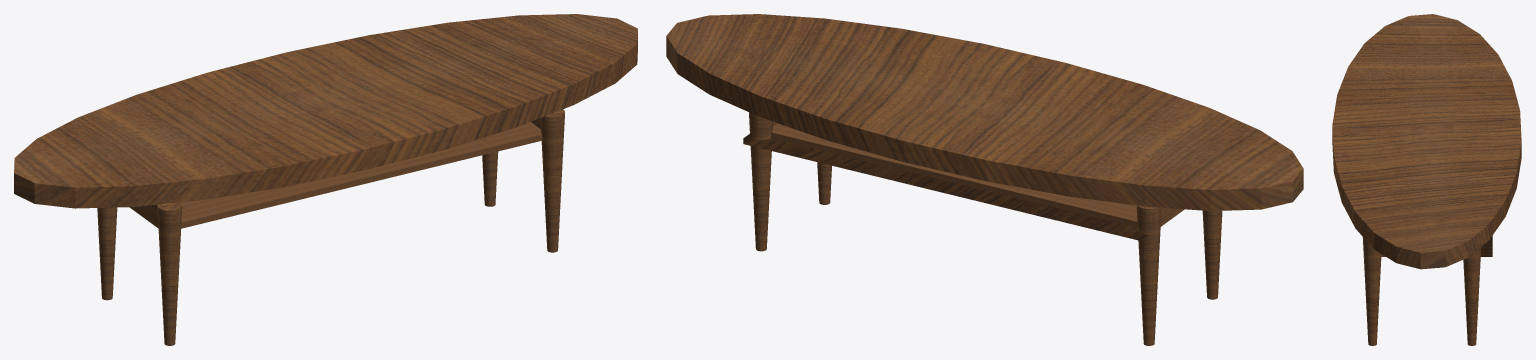
File: ik-stockholmcoffee-brown.glb
3 renders of one model, left to right at view 1: azimuth 30°, elevation 25°; view 2: azimuth 150°, elevation 25°; view 3: azimuth 270°, elevation 25°, orthographic. The views are drawn at different scales.
Visible parts, largest first — view 1: Mesh_0.012; view 2: Mesh_0.012; view 3: Mesh_0.012.
Part boxes in pixels (x1,y1,x2,y2): Mesh_0.012: (14, 14, 637, 345); Mesh_0.012: (666, 14, 1303, 345); Mesh_0.012: (1332, 14, 1521, 345).
Bounding box in the file's own units: 181 × 48.03 × 60.54.
1 material, 1 textured.
